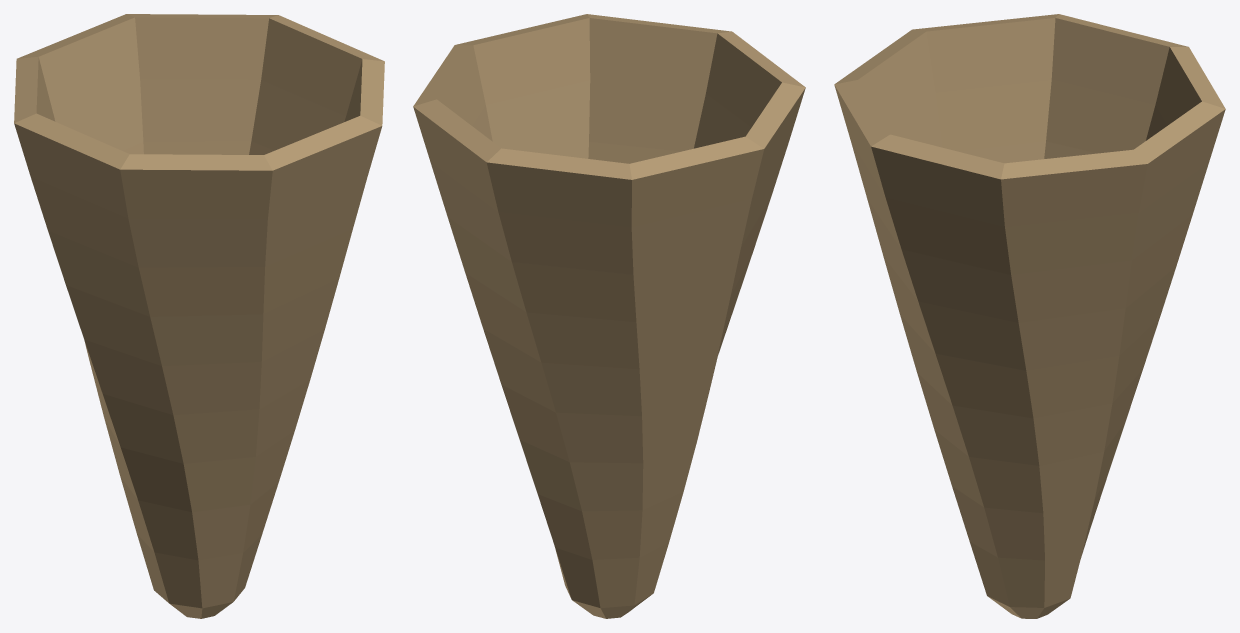
Rendered from icecream_cone.glb.
The picture shows the model from 3 angles, left to right: view 1: azimuth 30°, elevation 25°; view 2: azimuth 150°, elevation 25°; view 3: azimuth 270°, elevation 25°; orthographic projection.
Visible parts, largest first — view 1: IceCream_Cone; view 2: IceCream_Cone; view 3: IceCream_Cone.
Part boxes in pixels (left/top/right/bottom): IceCream_Cone: left=14, top=14, right=384, bottom=618; IceCream_Cone: left=413, top=14, right=805, bottom=618; IceCream_Cone: left=834, top=14, right=1225, bottom=618.
Size of the model in its own units: 0.5524 by 0.8104 by 0.5524.
